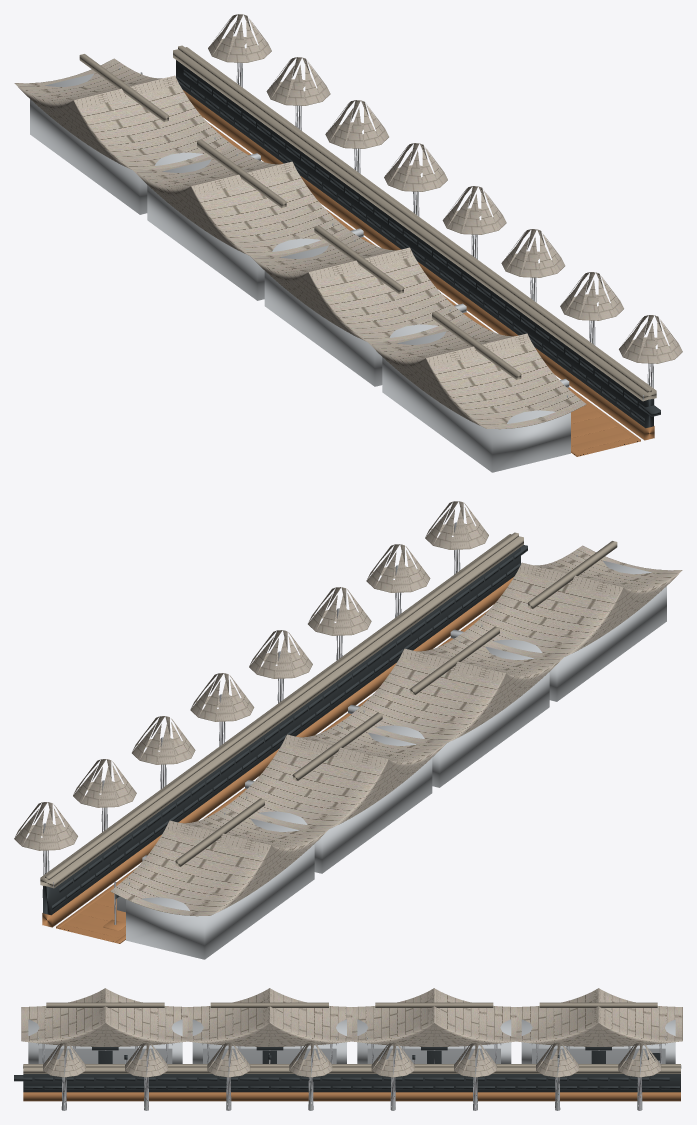
3 views of the same model, one above another, from view 1: azimuth 30°, elevation 25°; view 2: azimuth 150°, elevation 25°; view 3: azimuth 270°, elevation 25° (orthographic). The views are drawn at different scales.
Visible parts, largest first — view 1: seosunra_shops_giwa_roof, jongmyo_west_sagwaseok_wall, seosunra_hanok_shops_facade, jongmyo_west_wall_giwa_roof, seosunra_granite_roadway; view 2: seosunra_shops_giwa_roof, jongmyo_west_sagwaseok_wall, seosunra_hanok_shops_facade, jongmyo_west_wall_giwa_roof, seosunra_granite_roadway; view 3: seosunra_shops_giwa_roof, jongmyo_west_sagwaseok_wall, seosunra_hanok_shops_facade, jongmyo_west_wall_giwa_roof.
Boxes of the visible parts, x1,y1,x2,y2 form: seosunra_shops_giwa_roof: [14, 54, 586, 429]; jongmyo_west_sagwaseok_wall: [176, 14, 682, 440]; seosunra_hanok_shops_facade: [30, 73, 570, 472]; jongmyo_west_wall_giwa_roof: [173, 45, 656, 401]; seosunra_granite_roadway: [207, 122, 640, 456]; seosunra_shops_giwa_roof: [110, 541, 682, 916]; jongmyo_west_sagwaseok_wall: [14, 501, 527, 927]; seosunra_hanok_shops_facade: [126, 560, 666, 959]; jongmyo_west_wall_giwa_roof: [40, 532, 523, 888]; seosunra_granite_roadway: [56, 609, 489, 943]; seosunra_shops_giwa_roof: [21, 988, 682, 1046]; jongmyo_west_sagwaseok_wall: [14, 1043, 680, 1110]; seosunra_hanok_shops_facade: [28, 1019, 675, 1063]; jongmyo_west_wall_giwa_roof: [23, 1064, 681, 1073].
Size of the model in its own units: 17.6 by 6.9 by 65.1.
Materials: 4 (4 with a texture image).
